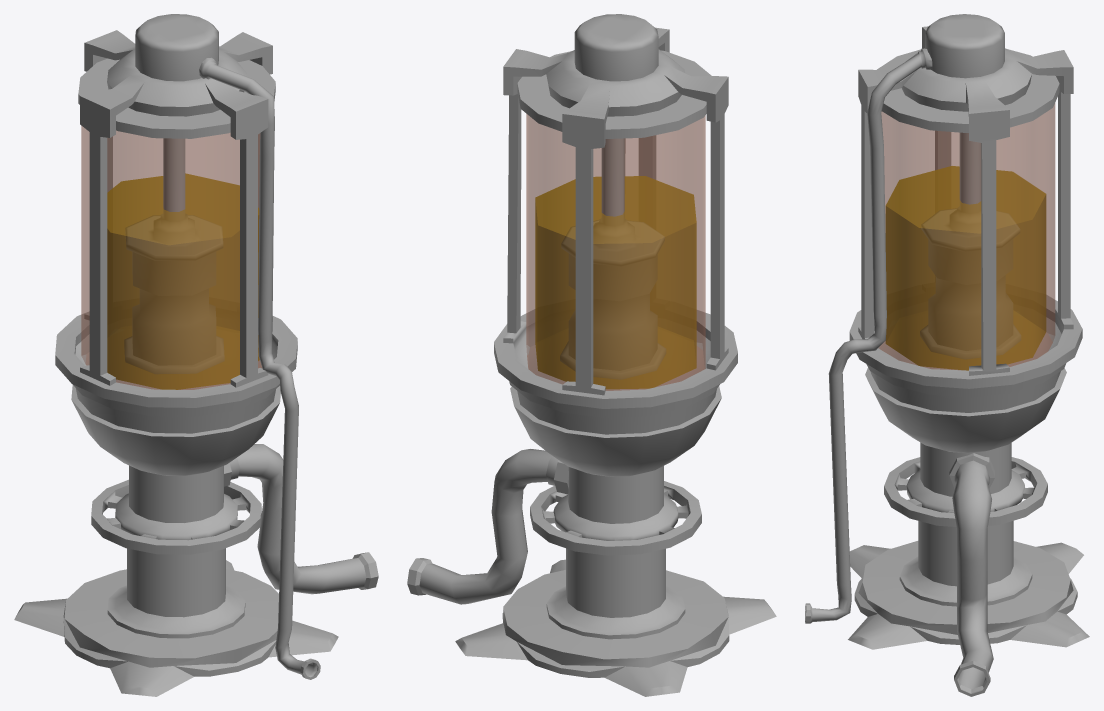
Rendered from CoreV3.fbx.
3 renders of one model, left to right at view 1: azimuth 30°, elevation 25°; view 2: azimuth 150°, elevation 25°; view 3: azimuth 270°, elevation 25°, orthographic. The views are drawn at different scales.
Parts seen in each view (by area): view 1: CoreV5, Glass, Liquid, Core_Engine, Cord_Top1, Cord_Floor; view 2: CoreV5, Glass, Liquid, Core_Engine, Cord_Floor; view 3: CoreV5, Glass, Liquid, Core_Engine, Cord_Top1, Cord_Floor.
Boxes of the visible parts, bbox=[...] form: CoreV5: bbox=[14, 14, 338, 696]; Glass: bbox=[81, 126, 261, 389]; Liquid: bbox=[107, 173, 259, 389]; Core_Engine: bbox=[124, 138, 224, 373]; Cord_Top1: bbox=[199, 57, 320, 679]; Cord_Floor: bbox=[224, 444, 378, 594]; CoreV5: bbox=[455, 14, 776, 696]; Glass: bbox=[526, 114, 705, 390]; Liquid: bbox=[535, 176, 696, 389]; Core_Engine: bbox=[560, 138, 665, 379]; Cord_Floor: bbox=[407, 449, 568, 604]; CoreV5: bbox=[848, 14, 1089, 649]; Glass: bbox=[878, 103, 1055, 370]; Liquid: bbox=[885, 166, 1046, 370]; Core_Engine: bbox=[920, 132, 1020, 359]; Cord_Top1: bbox=[805, 48, 932, 623]; Cord_Floor: bbox=[949, 453, 994, 696].
Size of the model in its own units: 130 by 244 by 109.
